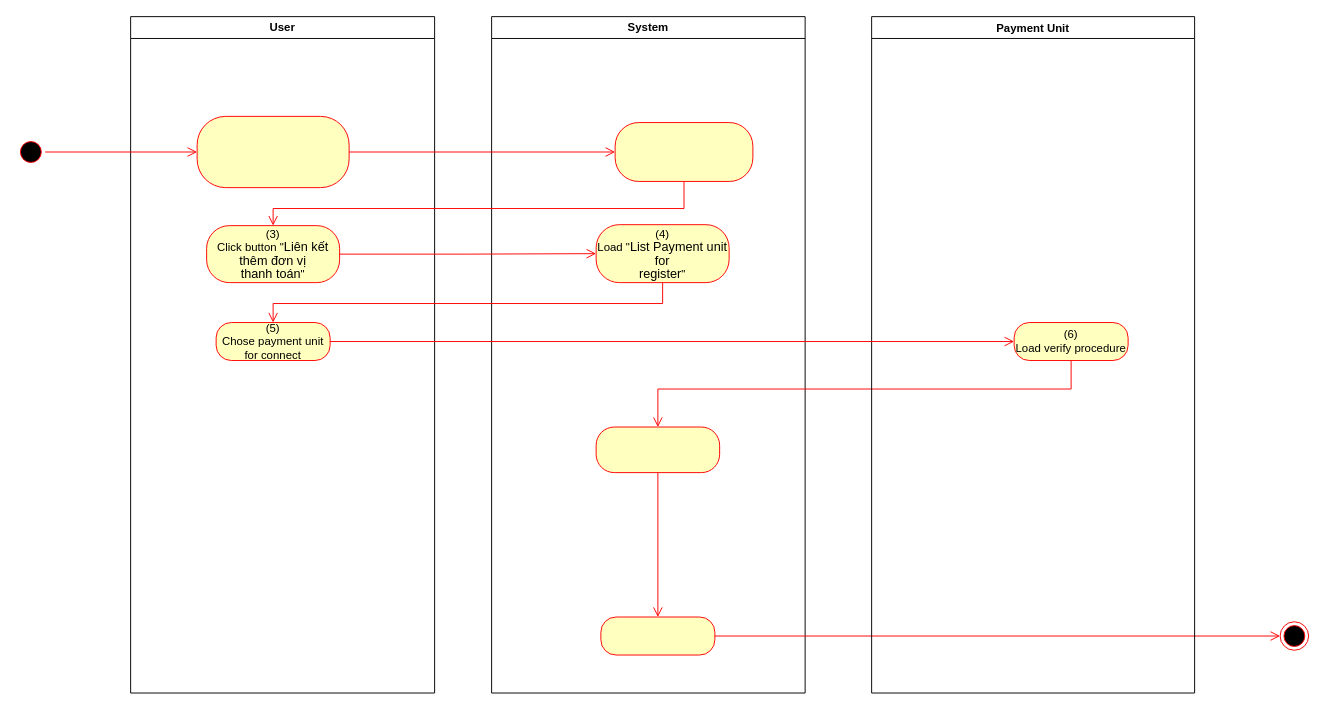
The diagram is 1325 pixels wide and 710 high, and some of its shapes have lost their labels. The shapes that lost their labels are listed below. From the top down, each one's centre as x and y in pixels, then its label:
point (272, 151): (1) On "left menu" click " CRUD payment unit "
point (683, 151): (2) Load " List Payment unit (Customer) " Screen
point (657, 449): (7) Push new payment Unit to DB
point (657, 635): (8) Update UI
